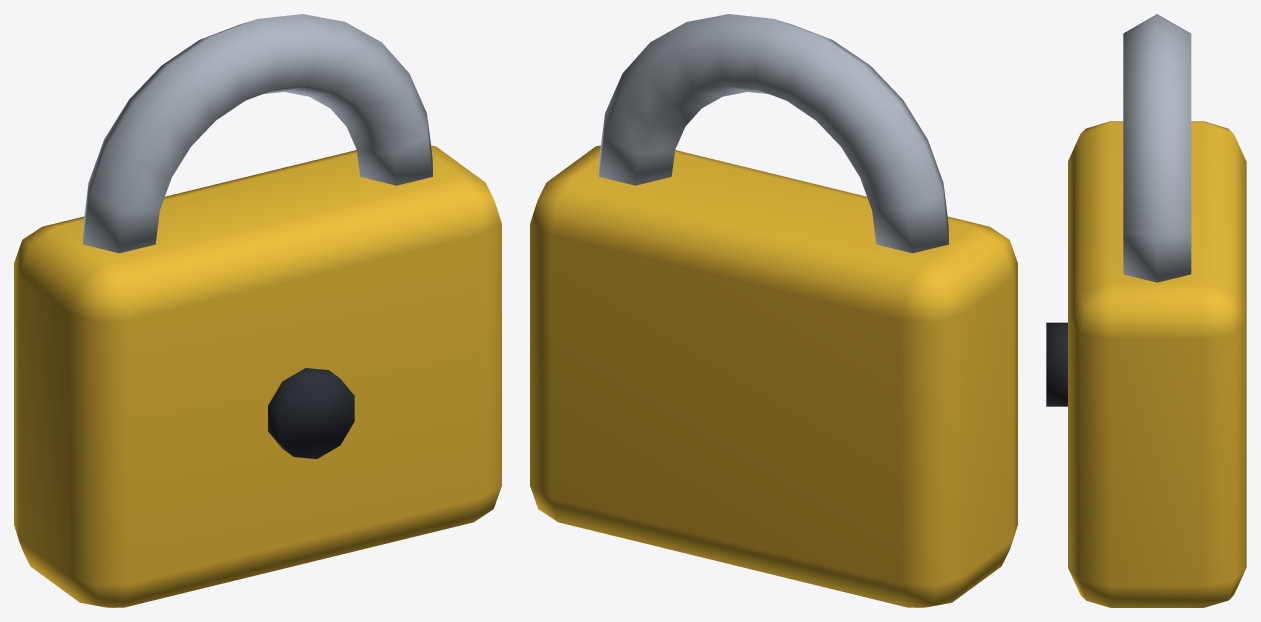
The model's file is Padlock.fbx.
3 views of the same model, side by side, from view 1: azimuth 30°, elevation 25°; view 2: azimuth 150°, elevation 25°; view 3: azimuth 270°, elevation 25° (orthographic). The views are drawn at different scales.
Visible parts, largest first — view 1: Body, Shackle, Keyhole; view 2: Body, Shackle; view 3: Body, Shackle, Keyhole.
Part boxes in pixels (x1,y1,x2,y2): Body: [14, 145, 501, 607]; Shackle: [83, 14, 432, 253]; Keyhole: [268, 368, 354, 458]; Body: [530, 145, 1017, 607]; Shackle: [599, 14, 948, 253]; Body: [1068, 121, 1246, 607]; Shackle: [1123, 14, 1191, 282]; Keyhole: [1046, 322, 1067, 406].
Bounding box in the file's own units: 0.13 × 0.153 × 0.056.
